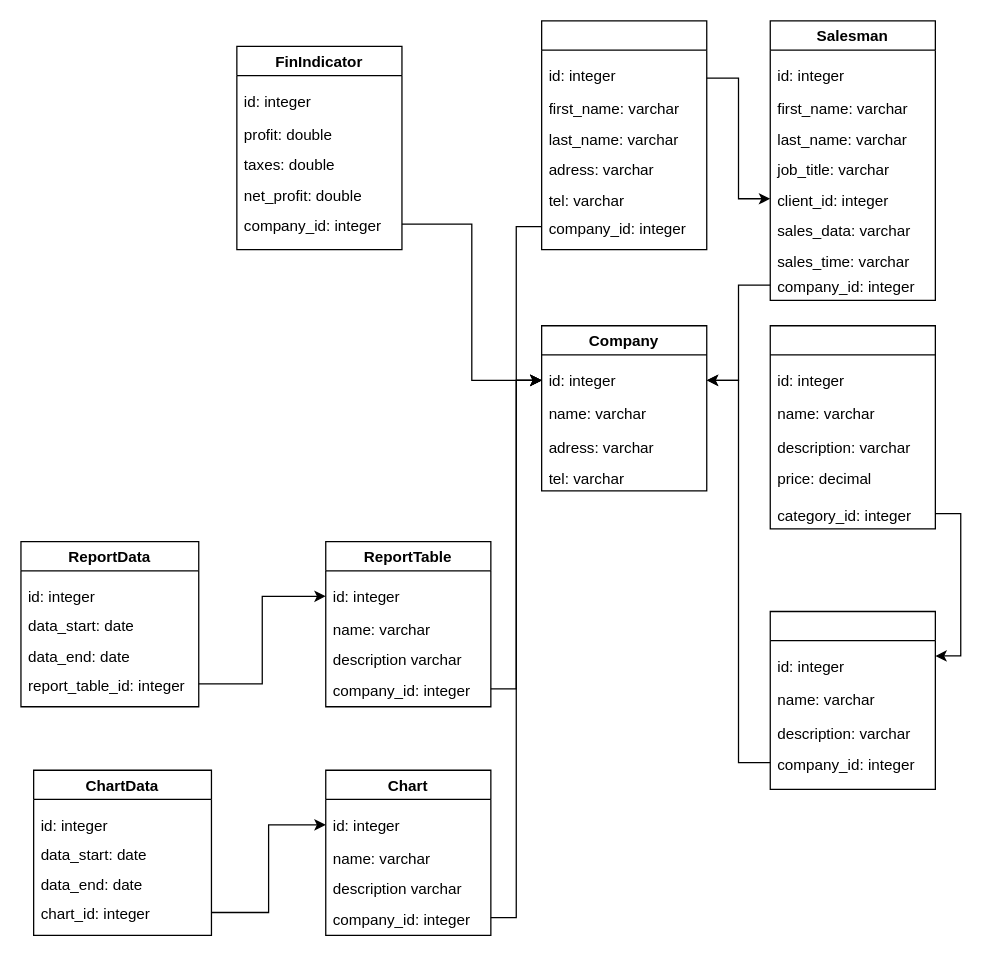
Some shapes in this 982 by 956 pixel diagram are drawn without their labels. The shapes that lost their labels are listed below. From the top down, each one's box as (x1, y1, x2, y2) in pixels, then its label:
(540, 20, 707, 250): Client
(769, 324, 935, 529): Product
(769, 610, 935, 789): Category
